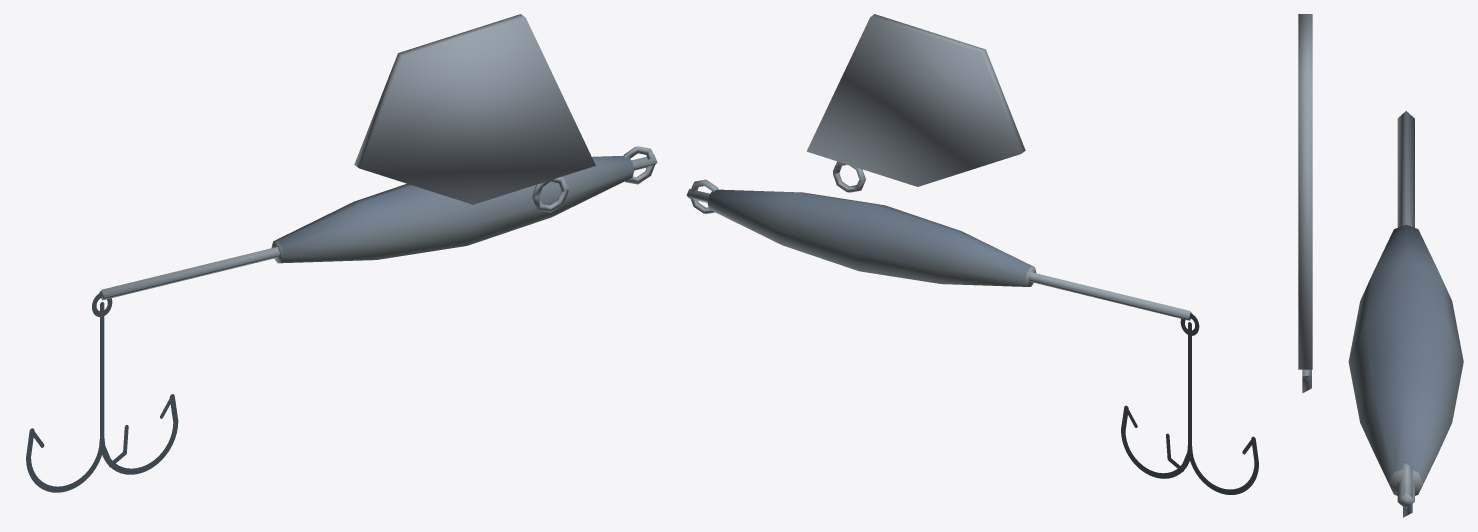
Rendered from spinner.glb.
3 views of the same model, side by side, from view 1: azimuth 30°, elevation 25°; view 2: azimuth 150°, elevation 25°; view 3: azimuth 270°, elevation 25° (orthographic). The views are drawn at different scales.
Visible parts, largest first — view 1: spinner__Rotating_blade_MESH, spinner__spinner_body_MESH, spinner__Treble_hook_ALPHA.007, spinner__Spinner_shaft_MESH; view 2: spinner__Rotating_blade_MESH, spinner__spinner_body_MESH, spinner__Treble_hook_ALPHA.007, spinner__Spinner_shaft_MESH; view 3: spinner__spinner_body_MESH, spinner__Rotating_blade_MESH, spinner__Spinner_shaft_MESH, spinner__Attachment_eye_MESH.012, spinner__Attachment_eye_MESH.013.
Boxes of the visible parts, x1,y1,x2,y2 form: spinner__Rotating_blade_MESH: [354, 14, 595, 204]; spinner__spinner_body_MESH: [271, 155, 634, 263]; spinner__Treble_hook_ALPHA.007: [26, 292, 178, 492]; spinner__Spinner_shaft_MESH: [99, 155, 657, 300]; spinner__Rotating_blade_MESH: [806, 14, 1025, 186]; spinner__spinner_body_MESH: [707, 189, 1036, 286]; spinner__Treble_hook_ALPHA.007: [1121, 313, 1258, 494]; spinner__Spinner_shaft_MESH: [686, 189, 1192, 320]; spinner__spinner_body_MESH: [1348, 224, 1463, 495]; spinner__Rotating_blade_MESH: [1298, 14, 1312, 369]; spinner__Spinner_shaft_MESH: [1397, 111, 1414, 509]; spinner__Attachment_eye_MESH.012: [1403, 461, 1412, 517]; spinner__Attachment_eye_MESH.013: [1302, 369, 1311, 393].
Bounding box in the file's own units: 0.0475 × 0.0292 × 0.00747.
Materials: 3 (2 with a texture image).
